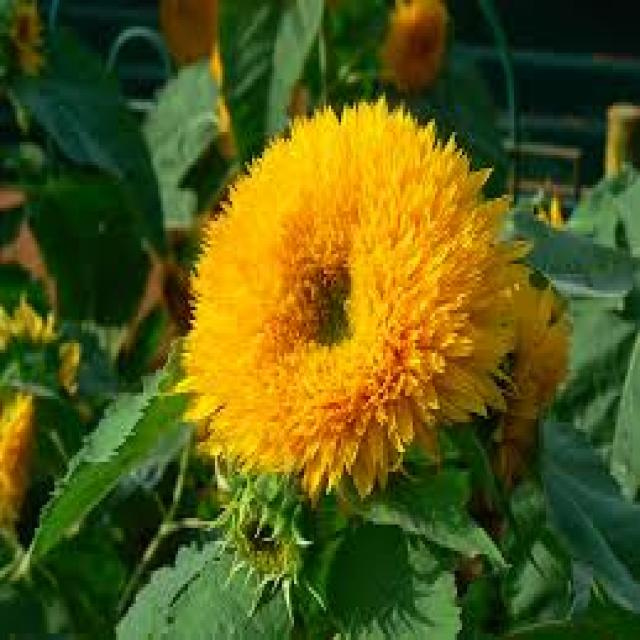sunflower: (160, 88, 532, 534), (481, 260, 582, 512), (151, 0, 247, 231), (0, 167, 84, 350), (2, 374, 56, 574), (130, 233, 204, 363), (381, 0, 453, 97)
